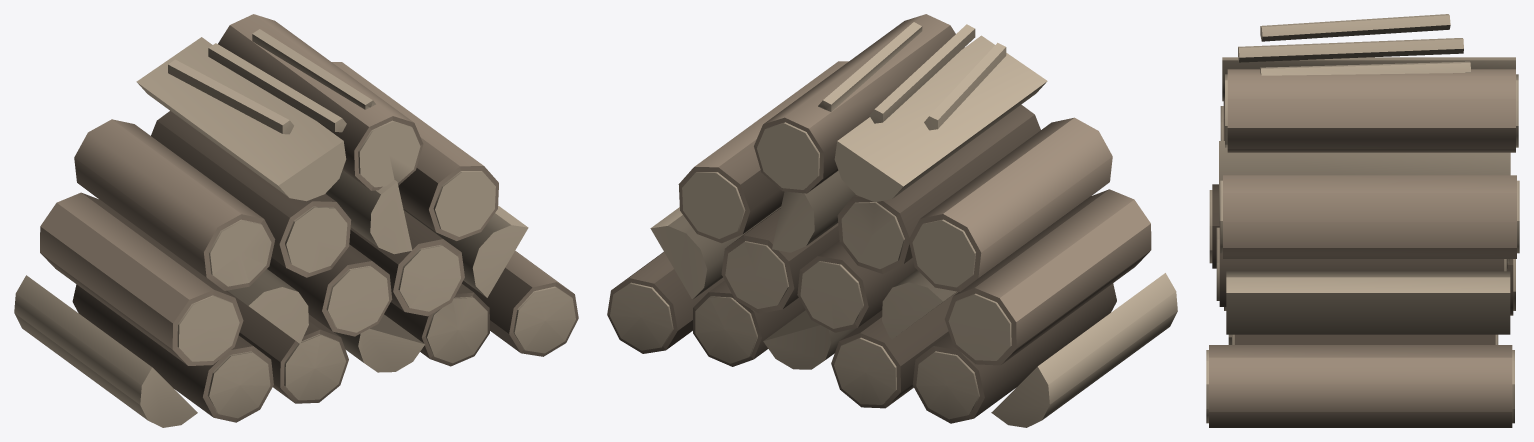
Rendered from woodpile.glb.
3 renders of one model, left to right at view 1: azimuth 30°, elevation 25°; view 2: azimuth 150°, elevation 25°; view 3: azimuth 270°, elevation 25°, orthographic. The views are drawn at different scales.
Visible parts, largest first — view 1: static; view 2: static; view 3: static.
Part boxes in pixels (box(x1,y1,x2,y2)): static: box(14, 14, 578, 427); static: box(607, 14, 1177, 427); static: box(1206, 14, 1519, 427).
Bounding box in the file's own units: 0.7222 × 0.4436 × 0.4444.
